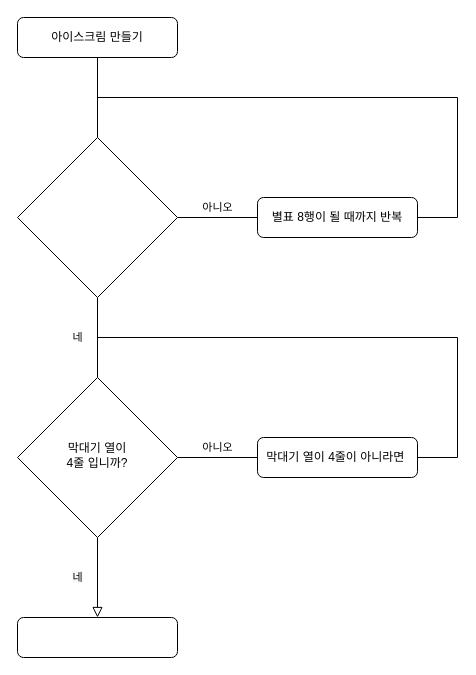
Some shapes in this 476 by 675 pixel diagram are drawn without their labels. Here are the shapes that lost their labels. From the top down, the centre of each, then its label:
At (x=97, y=217): "별표 열이 8줄 입니까?".
At (x=97, y=637): "아이스크림 완성".
